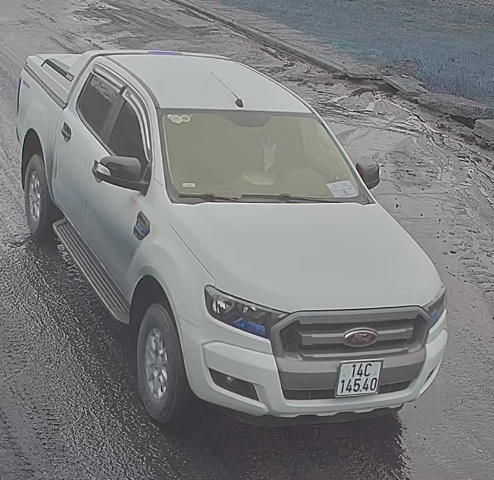vehicle plate: (332, 358, 387, 400)
